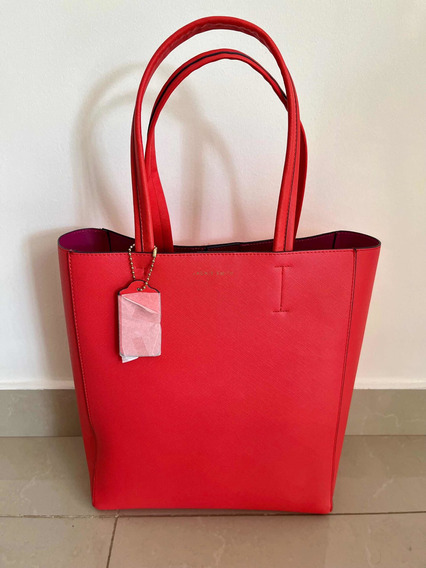cartera: (53, 13, 383, 517)
